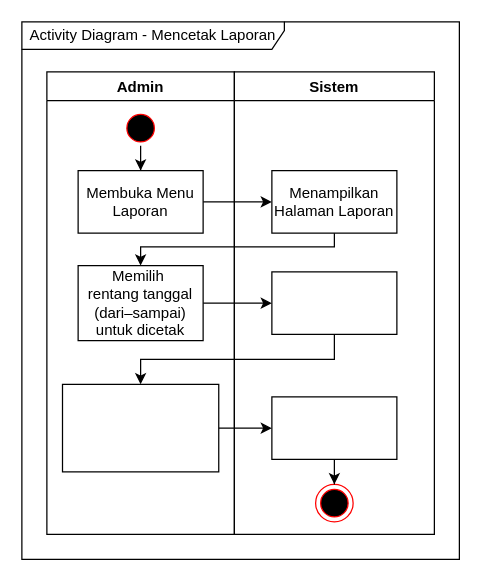
Image size: 481x581. Some labels were removed from this diagram. Each missing label, with the centre of its shape:
Memilih cetak PDF/Excel: the point at 140,427
Menampilkan Data yang siap dicetak: the point at 334,302
Mengunduh file yang siap dicetak: the point at 334,427
